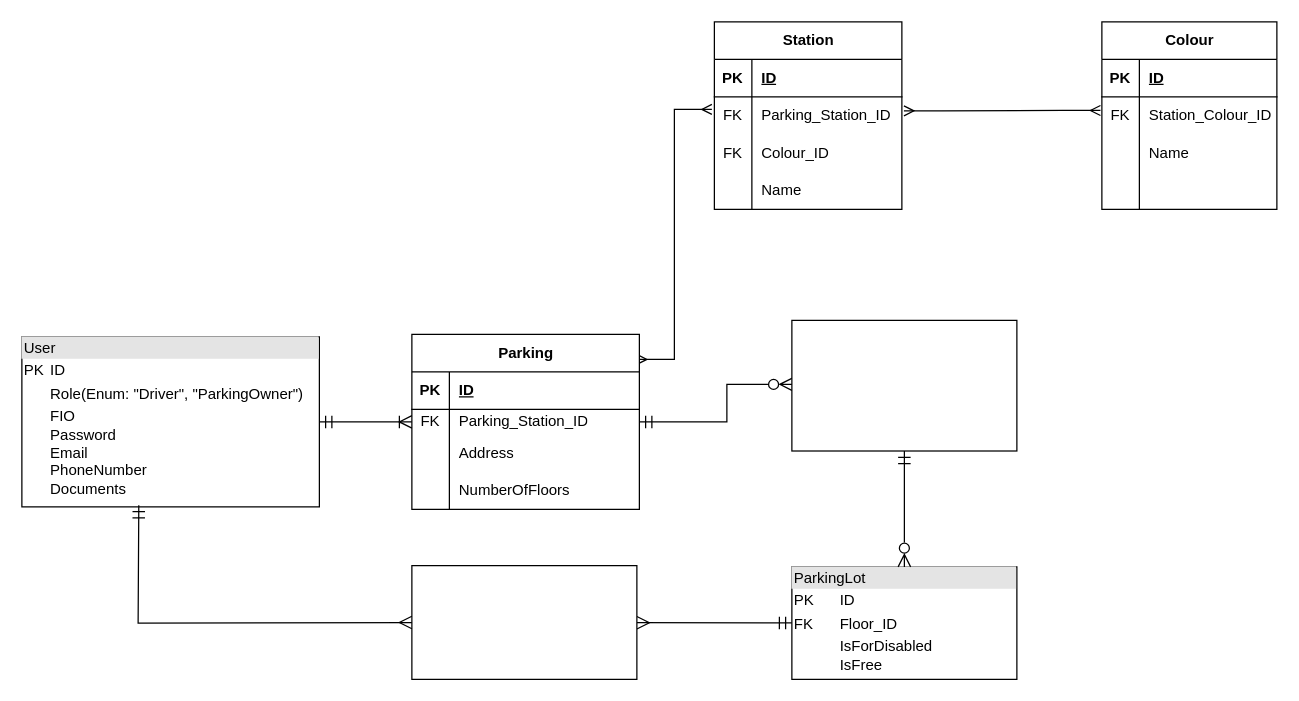
Some shapes in this 1299 by 701 pixel diagram are drawn without their labels. The shapes that lost their labels are listed below. From the top down, each one's box as (x1, y1, x2, y2) in pixels, then its label:
(791, 319, 1017, 451): Floor PK ID FK Parking_ID NumberOfParkingLots Level ActualPrice
(411, 564, 637, 679): Booking PK ID FK1 User_ID FK2 ParkingLot_ID Price
